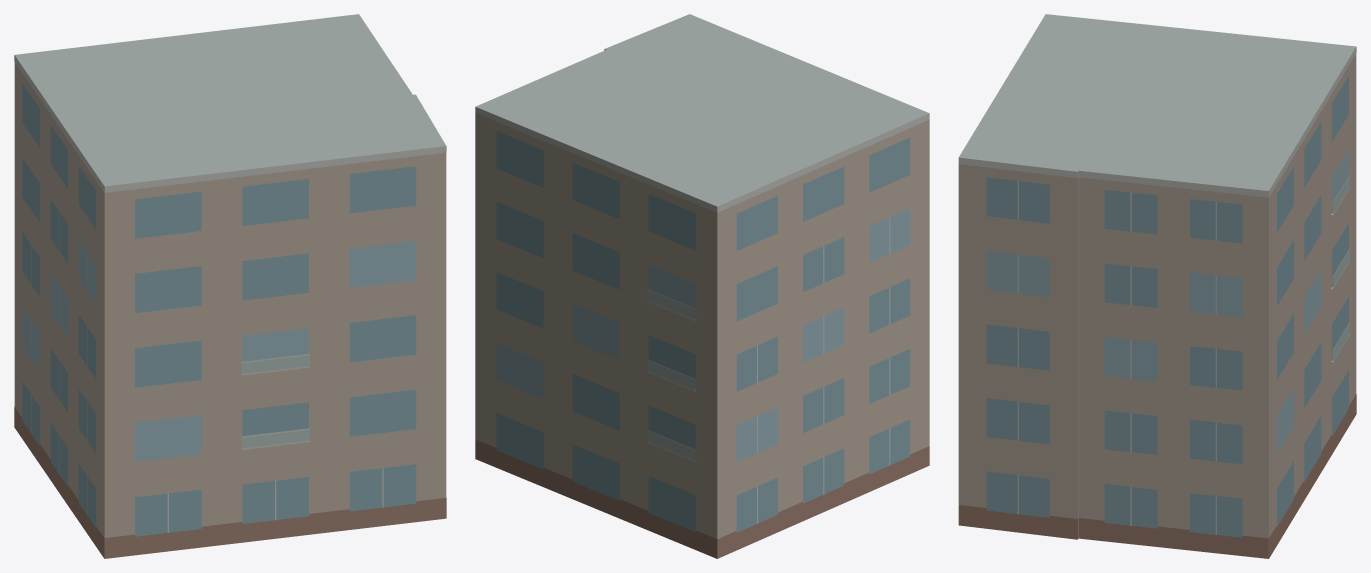
Rendered from survey-upis-32873597.glb.
The picture shows the model from 3 angles, left to right: view 1: azimuth 30°, elevation 25°; view 2: azimuth 150°, elevation 25°; view 3: azimuth 270°, elevation 25°; orthographic projection. The views are drawn at different scales.
Parts seen in each view (by area): view 1: survey-upis-32873597.tmp; view 2: survey-upis-32873597.tmp; view 3: survey-upis-32873597.tmp.
Part boxes in pixels (<box>): survey-upis-32873597.tmp: <box>14,14,446,558</box>; survey-upis-32873597.tmp: <box>475,14,929,558</box>; survey-upis-32873597.tmp: <box>958,14,1356,558</box>.
Bounding box in the file's own units: 14.36 × 13.9 × 13.64.
